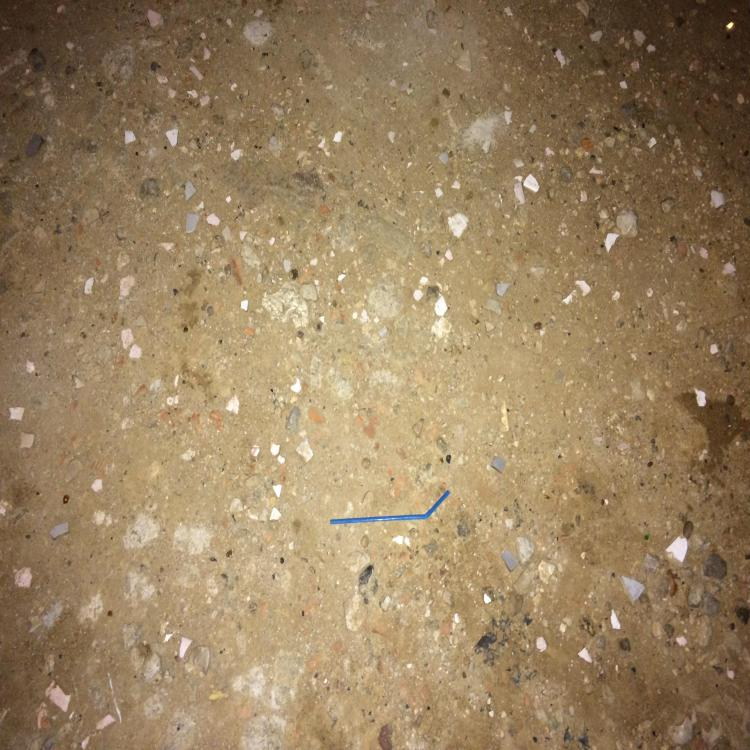Plastic straw: (330, 489, 450, 524)
